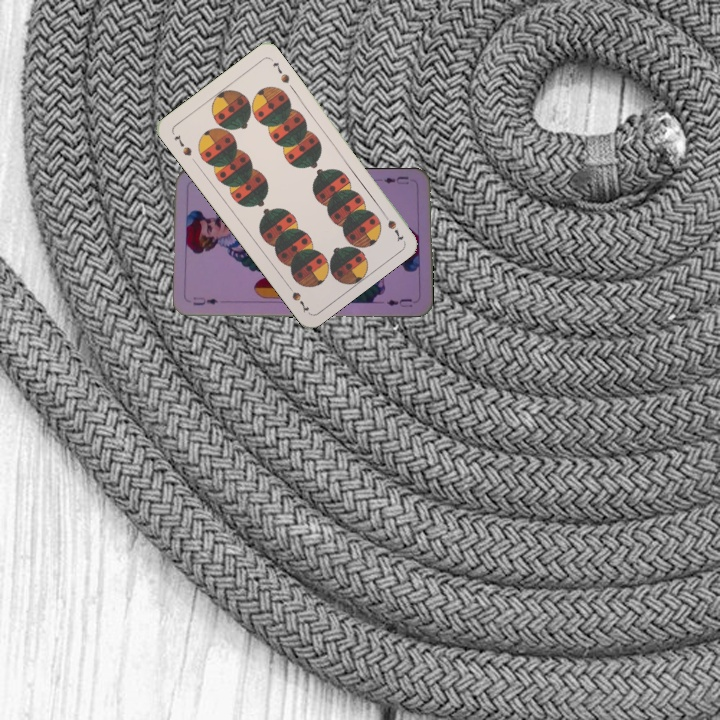EU: (189, 293, 220, 307), (380, 173, 411, 186)
S7: (378, 207, 406, 244), (170, 131, 194, 159)
